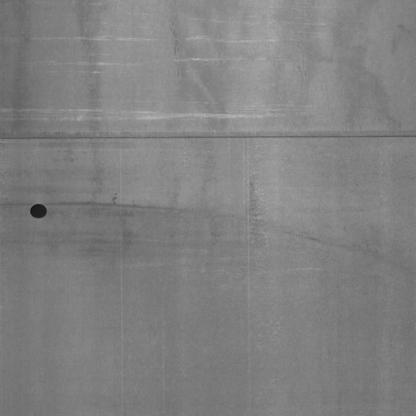punching_hole: (23, 194, 50, 226)
welding_line: (0, 118, 416, 154)
